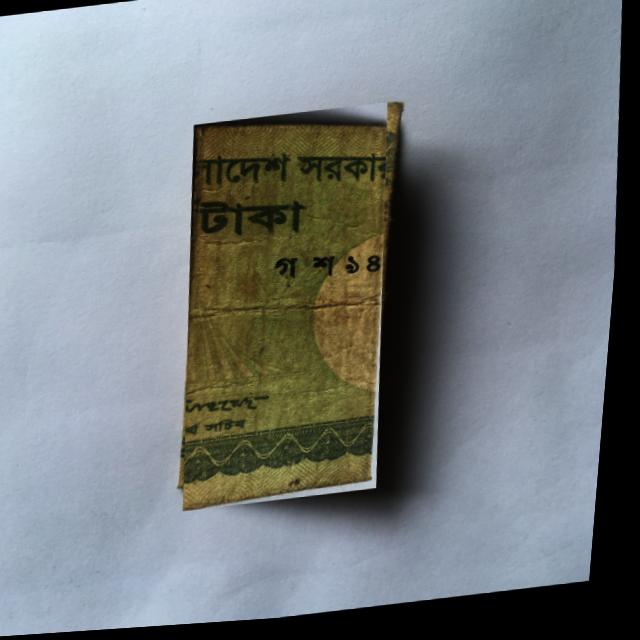Taka: (172, 107, 410, 516)
